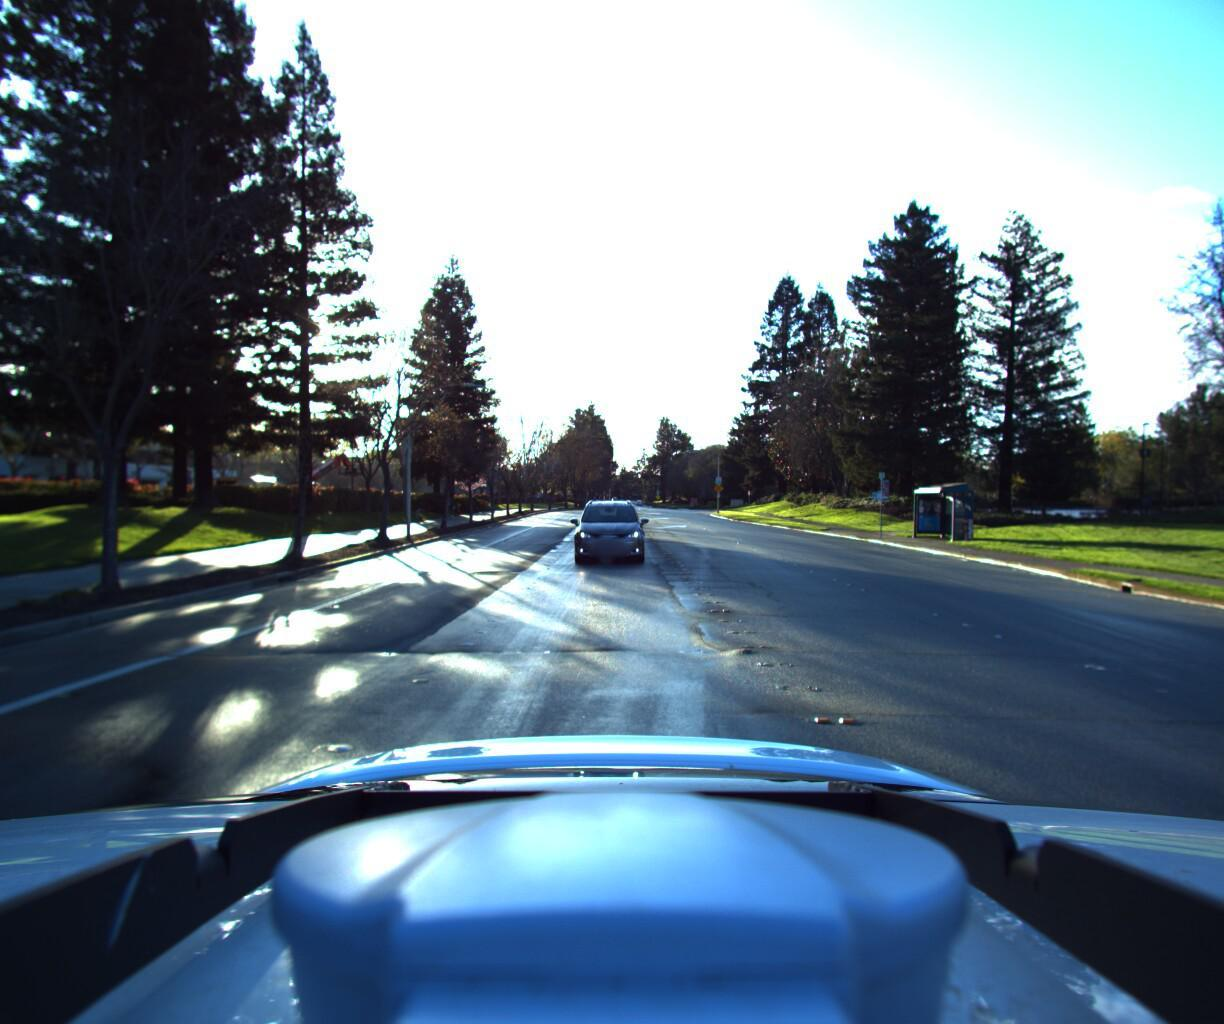bicycle: (0, 465, 30, 921), (440, 496, 457, 522)
car: (572, 497, 645, 566)
other_vehicle: (278, 445, 376, 518), (198, 470, 287, 517)
